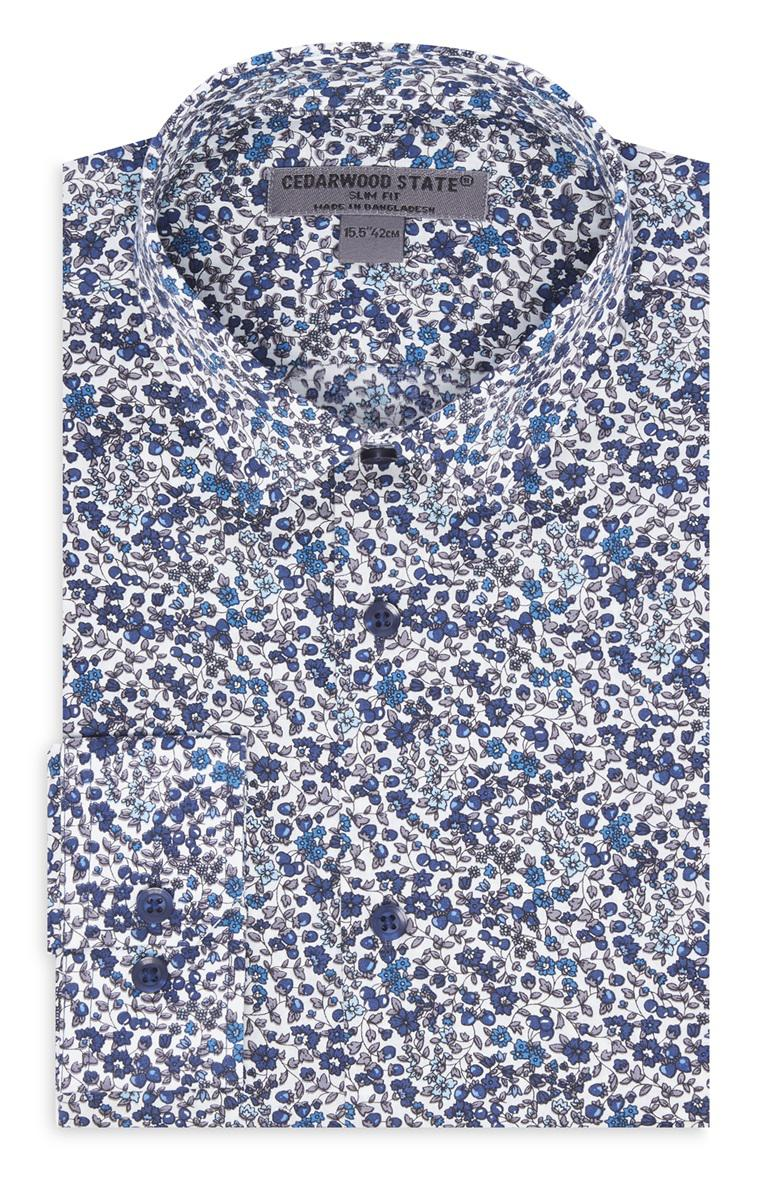teeshirt: (54, 36, 718, 1152)
